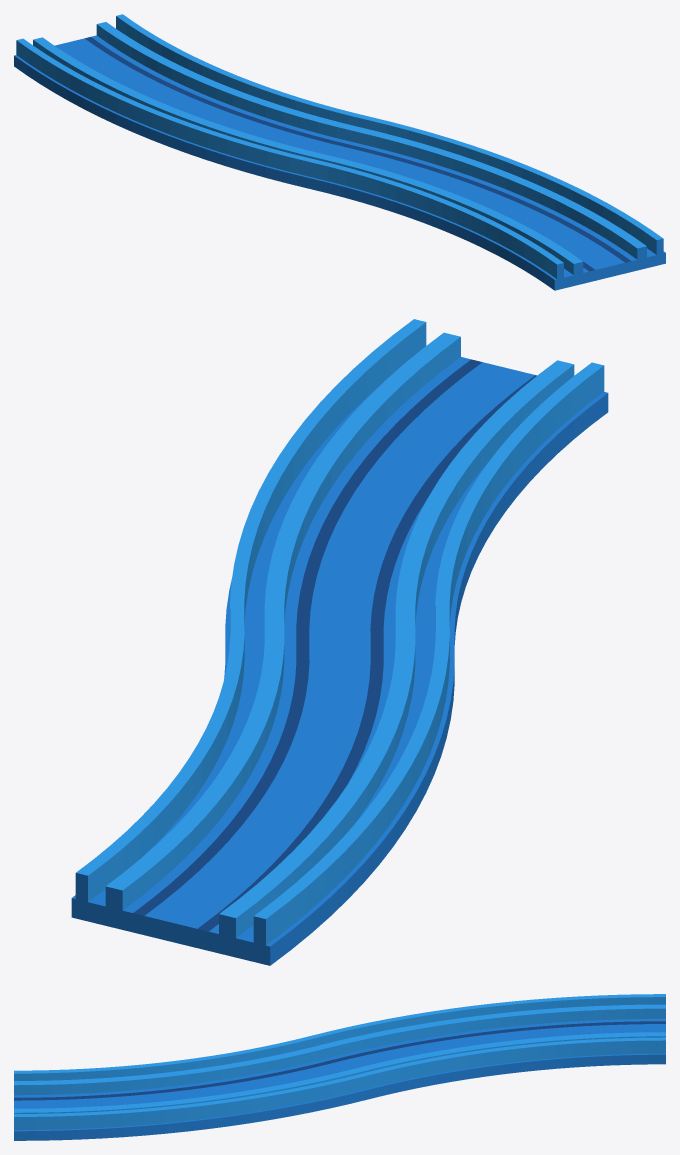
File: Track_S_Left.fbx
The picture shows the model from 3 angles, top to bottom: view 1: azimuth 30°, elevation 25°; view 2: azimuth 150°, elevation 25°; view 3: azimuth 270°, elevation 25°; orthographic projection. The views are drawn at different scales.
Visible parts, largest first — view 1: Molded blue rail; view 2: Molded blue rail; view 3: Molded blue rail.
Part boxes in pixels (x1,y1,x2,y2): Molded blue rail: (14,14,665,290); Molded blue rail: (71,319,608,965); Molded blue rail: (14,994,665,1140).
Bounding box in the file's own units: 272 × 23.21 × 600.
